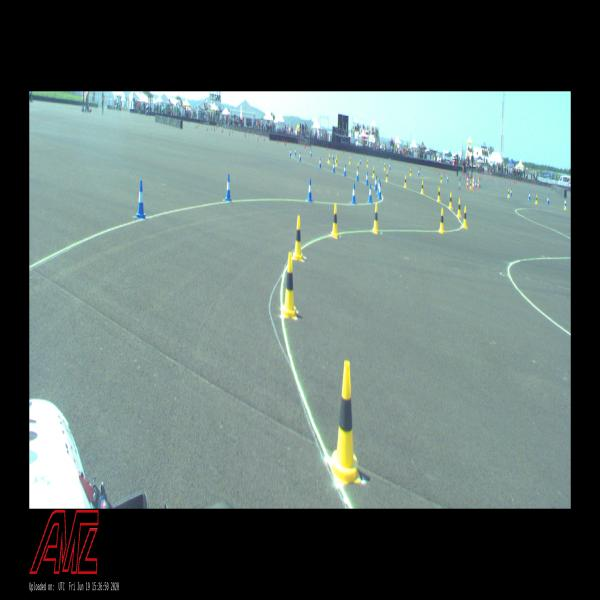blue_cone: (136, 180, 146, 218), (225, 174, 232, 202), (307, 178, 312, 202), (368, 184, 372, 203), (378, 181, 382, 199), (352, 183, 355, 204), (374, 176, 378, 190), (377, 179, 380, 194), (343, 164, 346, 177), (356, 169, 359, 181), (319, 157, 322, 168), (366, 171, 368, 185), (446, 174, 449, 183), (333, 161, 335, 173), (299, 152, 301, 162), (290, 148, 292, 157), (510, 187, 512, 196), (547, 195, 549, 204), (389, 162, 391, 170), (310, 148, 312, 156), (418, 168, 420, 176), (528, 192, 530, 200), (295, 147, 296, 156), (475, 180, 476, 188)
large_orange_cone: (472, 175, 475, 190), (477, 177, 480, 188), (466, 175, 468, 188)
yellow_cone: (329, 362, 361, 484), (282, 253, 296, 319), (292, 216, 303, 261), (330, 204, 338, 238), (372, 203, 379, 233), (462, 206, 468, 229), (439, 208, 444, 233), (457, 198, 462, 218), (449, 193, 452, 210), (437, 187, 440, 202), (421, 181, 424, 194), (404, 175, 407, 188), (372, 167, 375, 178), (335, 156, 338, 167), (366, 158, 369, 168), (564, 200, 567, 210), (440, 174, 443, 183), (507, 189, 510, 198), (535, 195, 538, 204), (409, 168, 412, 176), (386, 170, 388, 182), (328, 153, 330, 164), (470, 180, 472, 190), (384, 162, 386, 171), (349, 156, 351, 165)
